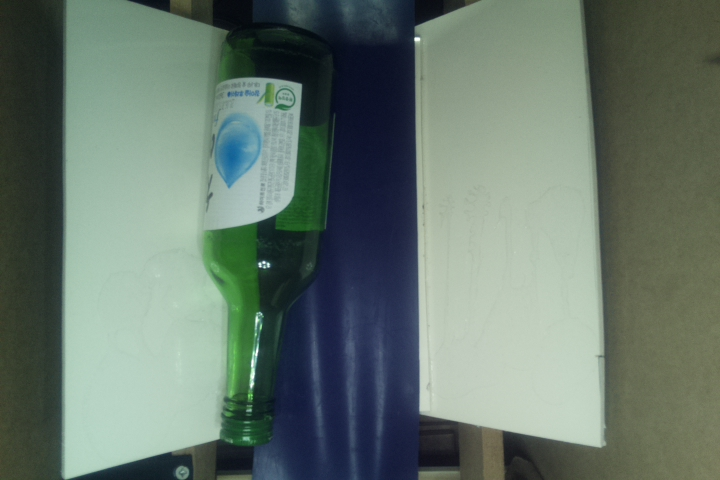soju: (203, 25, 335, 447)
